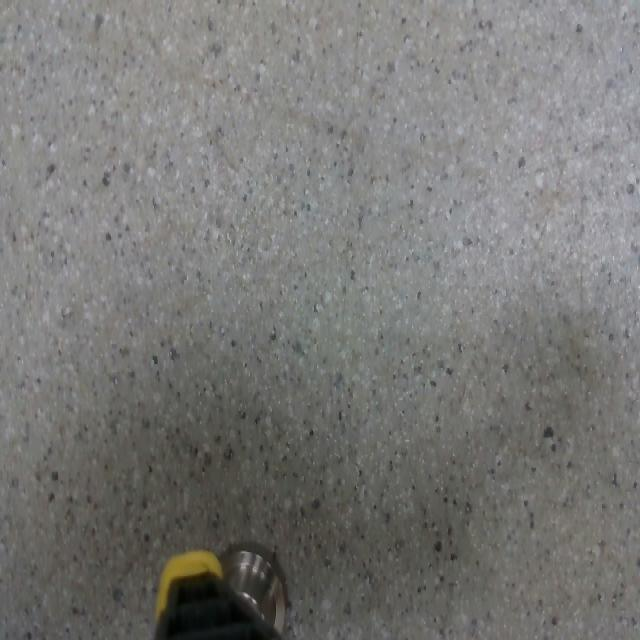sensor: (216, 540, 288, 637)
